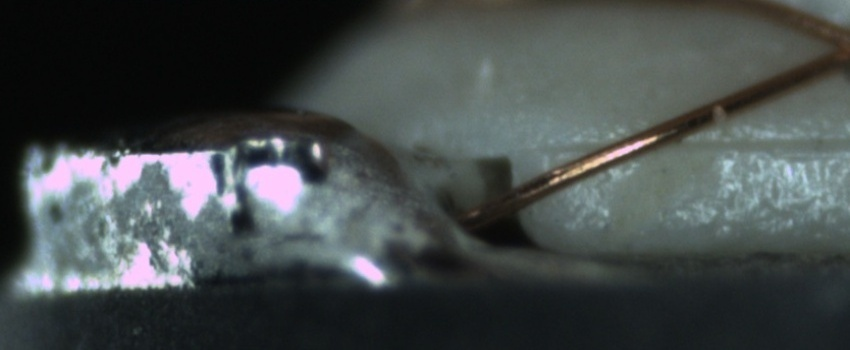CL: (801, 8, 850, 81)
DL: (541, 113, 849, 174)
